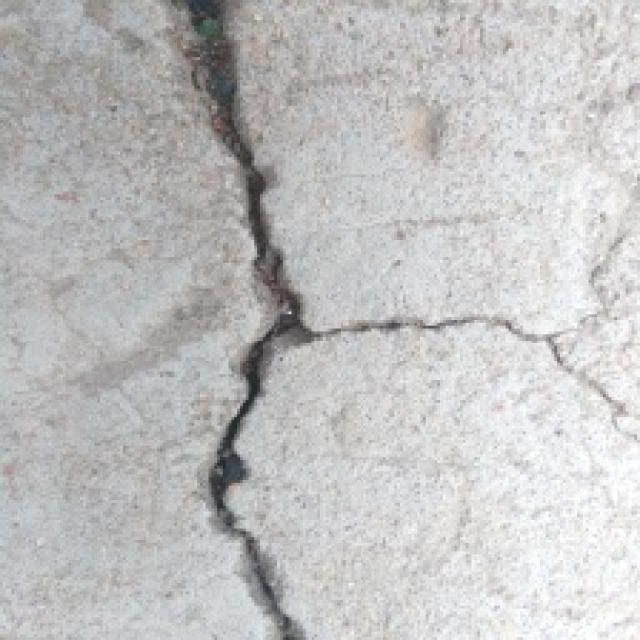crack: (148, 0, 346, 640)
